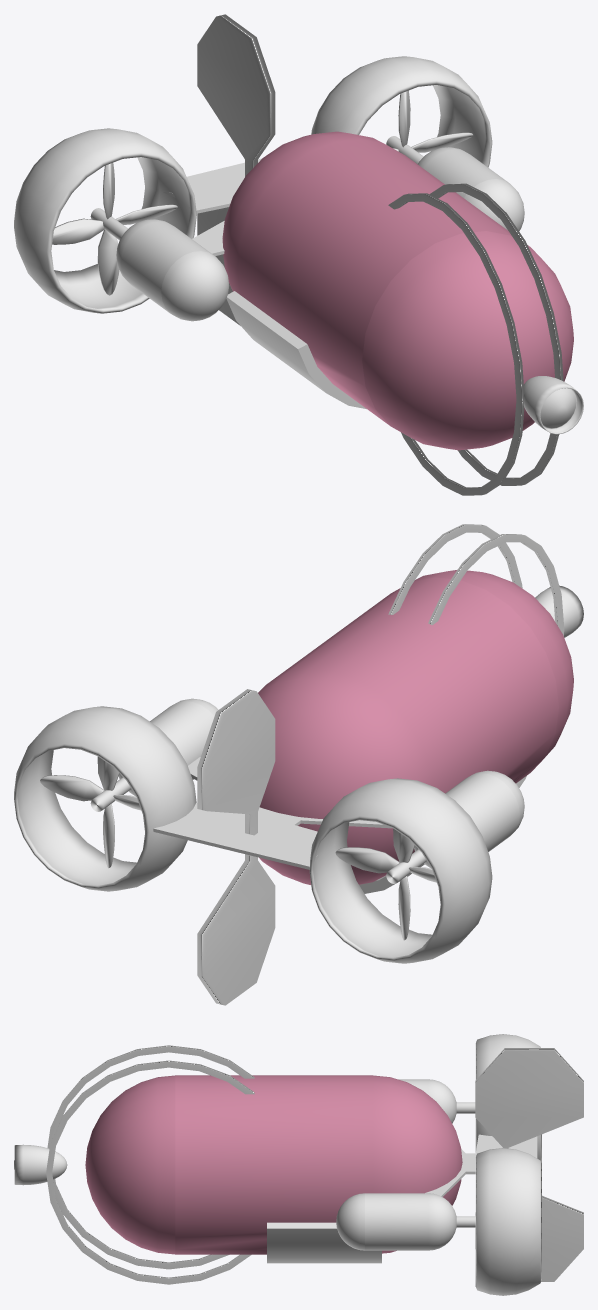
File: SubmersibleSmooth.fbx
3 views of the same model, one above another, from view 1: azimuth 30°, elevation 25°; view 2: azimuth 150°, elevation 25°; view 3: azimuth 270°, elevation 25° (orthographic). The views are drawn at different scales.
Visible parts, largest first — view 1: Sphere, Sphere.004, Cube, Sphere.001, Sphere.002, Cylinder.003, Sphere.003, Cylinder.004, Cylinder.002, Circle.001, Sphere.005, Plane (+1 smaller); view 2: Sphere, Sphere.004, Sphere.001, Cube, Plane, Sphere.002, Sphere.003, Circle.001, Circle, Cylinder.003, Cylinder.002, Sphere.005; view 3: Sphere, Cube, Sphere.001, Sphere.003, Cylinder.002, Cylinder.005, Cylinder.003, Sphere.005, Sphere.004, Plane, Sphere.002.
Part boxes in pixels (box(x1,y1,x2,y2)): Sphere: box(222, 131, 573, 450); Sphere.004: box(14, 128, 196, 313); Cube: box(197, 14, 275, 325); Sphere.001: box(311, 56, 492, 167); Sphere.002: box(116, 219, 229, 321); Cylinder.003: box(388, 193, 524, 495); Sphere.003: box(417, 147, 524, 230); Cylinder.004: box(226, 291, 366, 409); Cylinder.002: box(429, 183, 563, 485); Circle.001: box(52, 163, 177, 295); Sphere.005: box(523, 376, 583, 434); Plane: box(163, 158, 261, 255); Sphere: box(258, 570, 573, 884); Sphere.004: box(309, 778, 492, 963); Sphere.001: box(14, 706, 196, 891); Cube: box(197, 689, 275, 1005); Plane: box(153, 757, 392, 869); Sphere.002: box(414, 770, 524, 868); Sphere.003: box(118, 698, 218, 796); Circle.001: box(335, 828, 436, 940); Circle: box(40, 756, 141, 868); Cylinder.003: box(428, 534, 564, 787); Cylinder.002: box(388, 524, 522, 614); Sphere.005: box(535, 585, 583, 637); Sphere: box(85, 1075, 462, 1254); Cube: box(475, 1048, 583, 1281); Sphere.001: box(475, 1148, 541, 1295); Sphere.003: box(336, 1193, 456, 1250); Cylinder.002: box(46, 1060, 254, 1284); Cylinder.005: box(267, 1222, 381, 1263); Cylinder.003: box(47, 1045, 254, 1269); Sphere.005: box(14, 1144, 67, 1185); Sphere.004: box(475, 1034, 541, 1162); Plane: box(425, 1134, 537, 1196); Sphere.002: box(398, 1079, 456, 1123).
Bounding box in the file's own units: 465 × 283 × 634.
